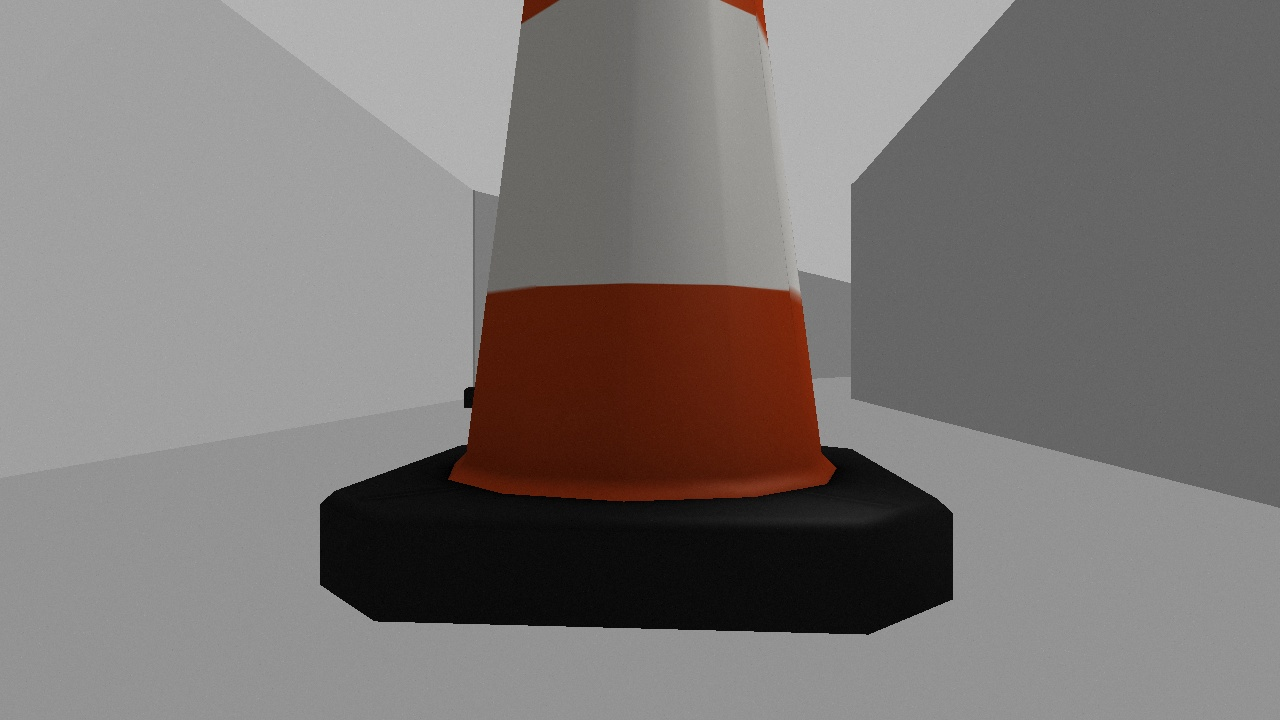barricade: (287, 1, 978, 650)
